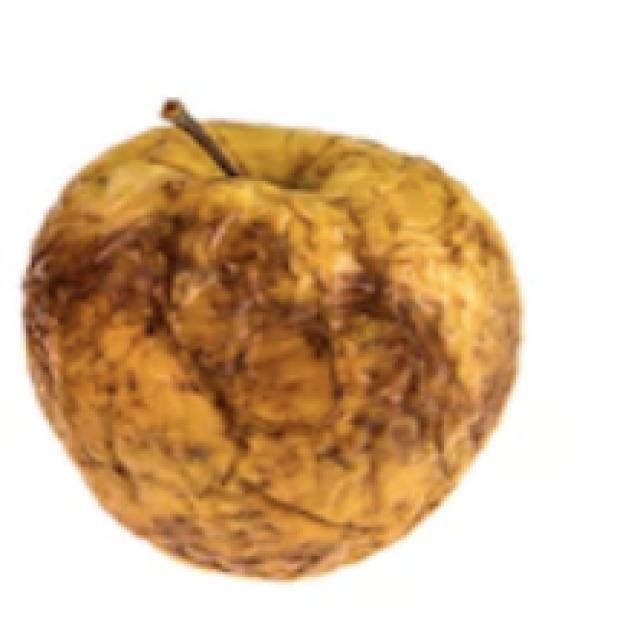Rotten: (68, 120, 522, 572)
